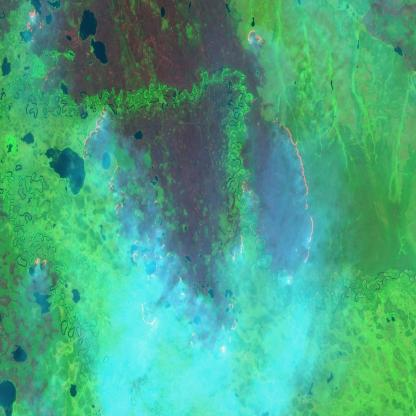fire: (23, 0, 320, 367)
